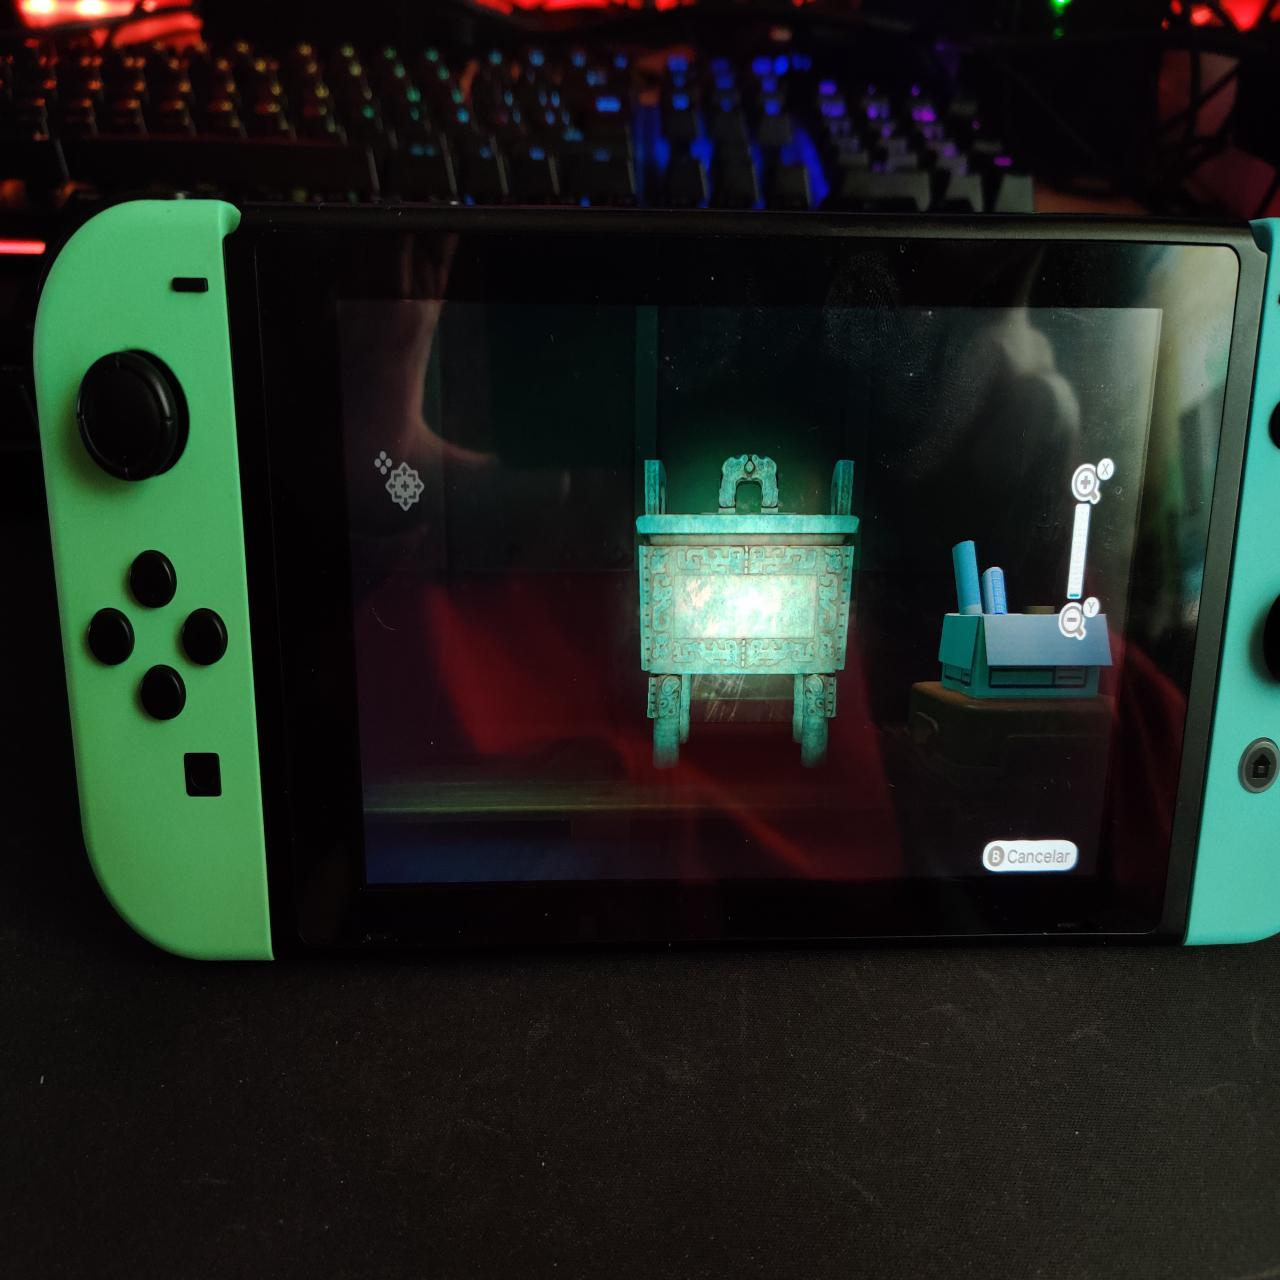HoumuwuDingFake: (632, 445, 866, 782)
